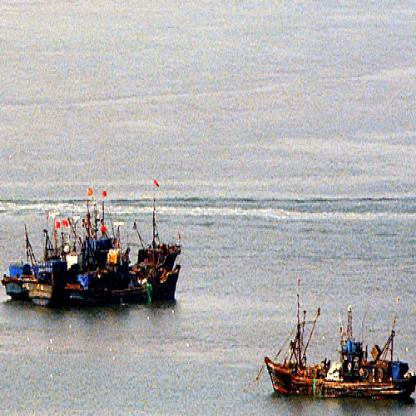fish-b: (0, 172, 186, 315), (253, 266, 415, 406)
